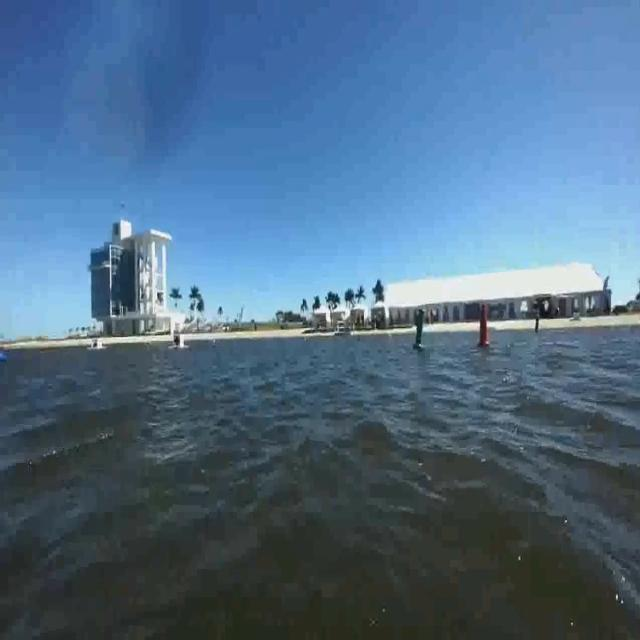green-column-buoy: (412, 312, 428, 357)
red-column-buoy: (477, 305, 493, 351)
